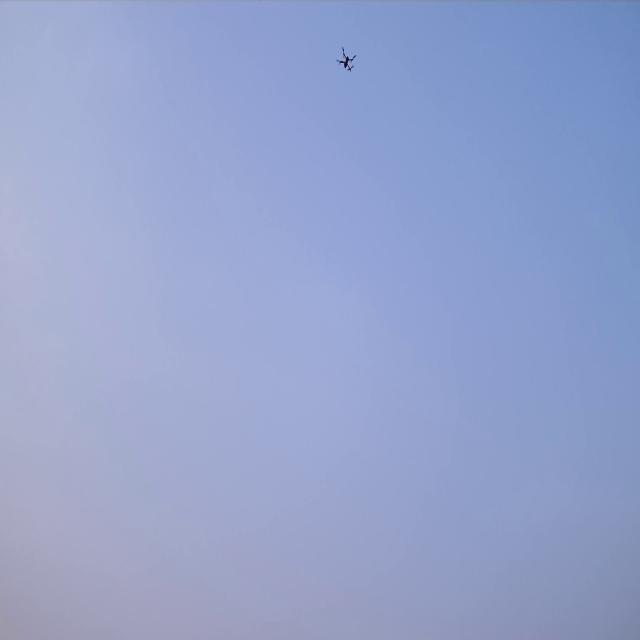UAV: (335, 46, 357, 72)
